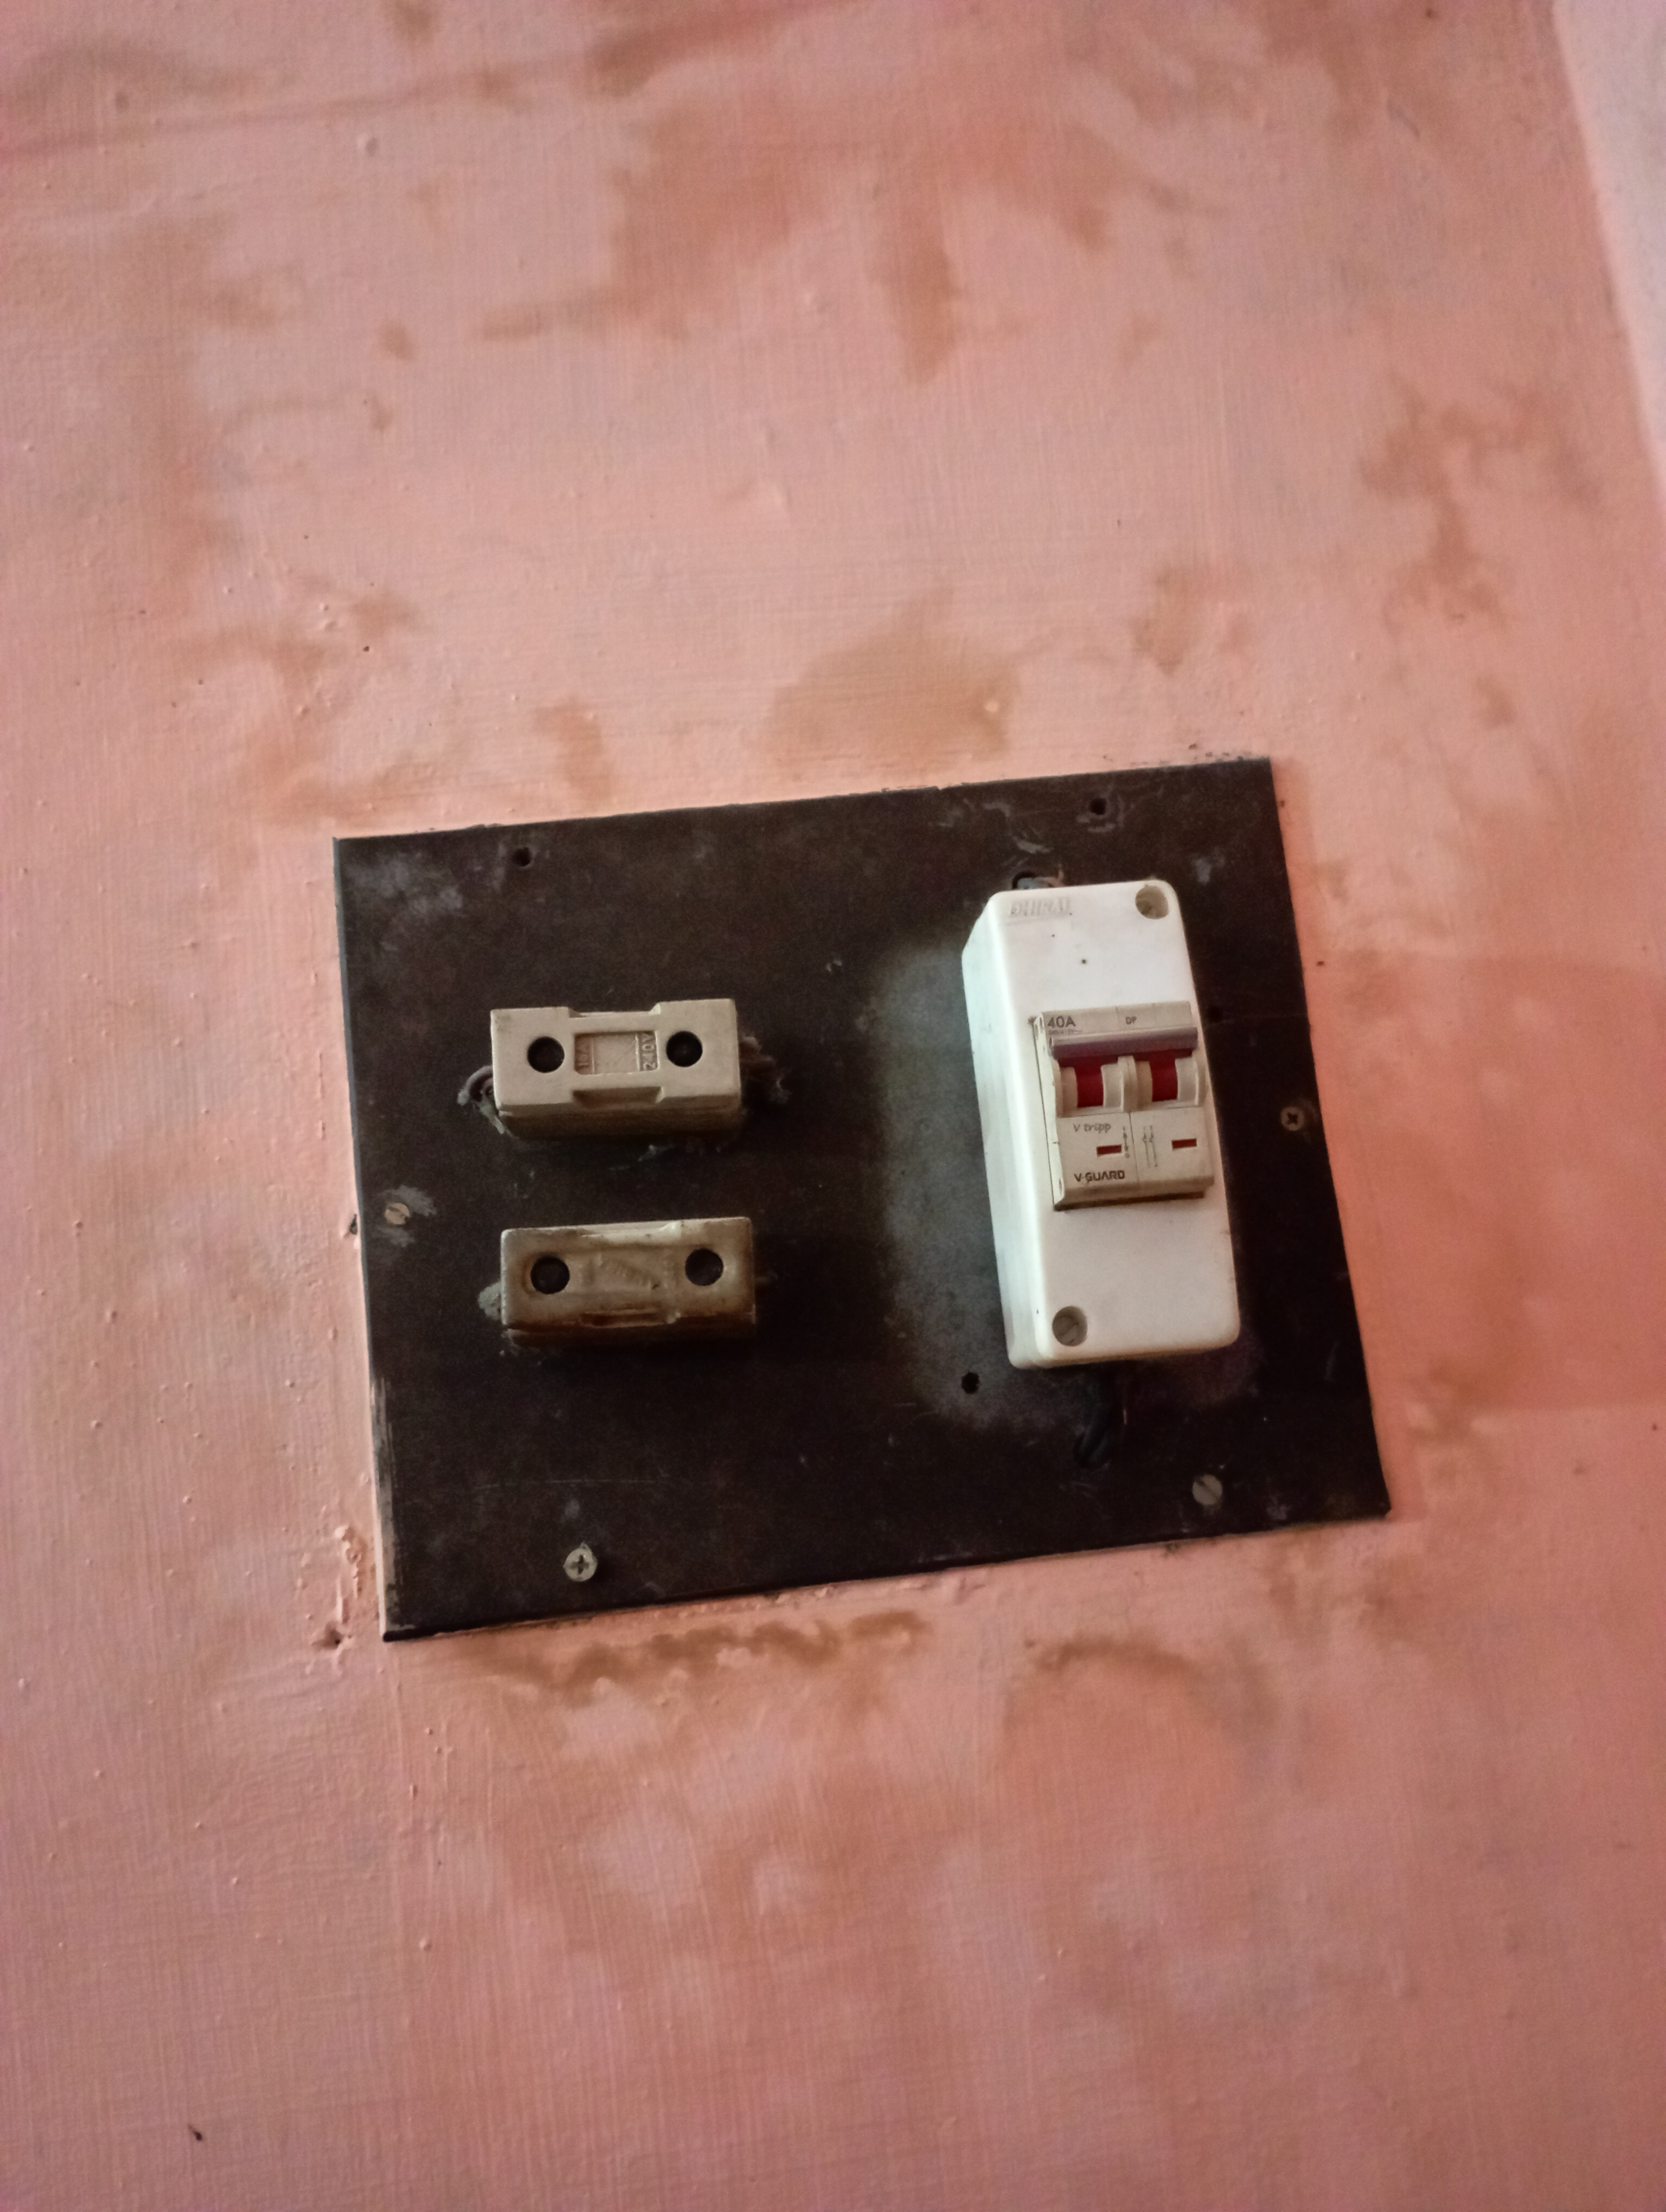ciruit_breaker: (938, 873, 1251, 1388)
fuse: (476, 1203, 775, 1366), (476, 997, 766, 1133)
